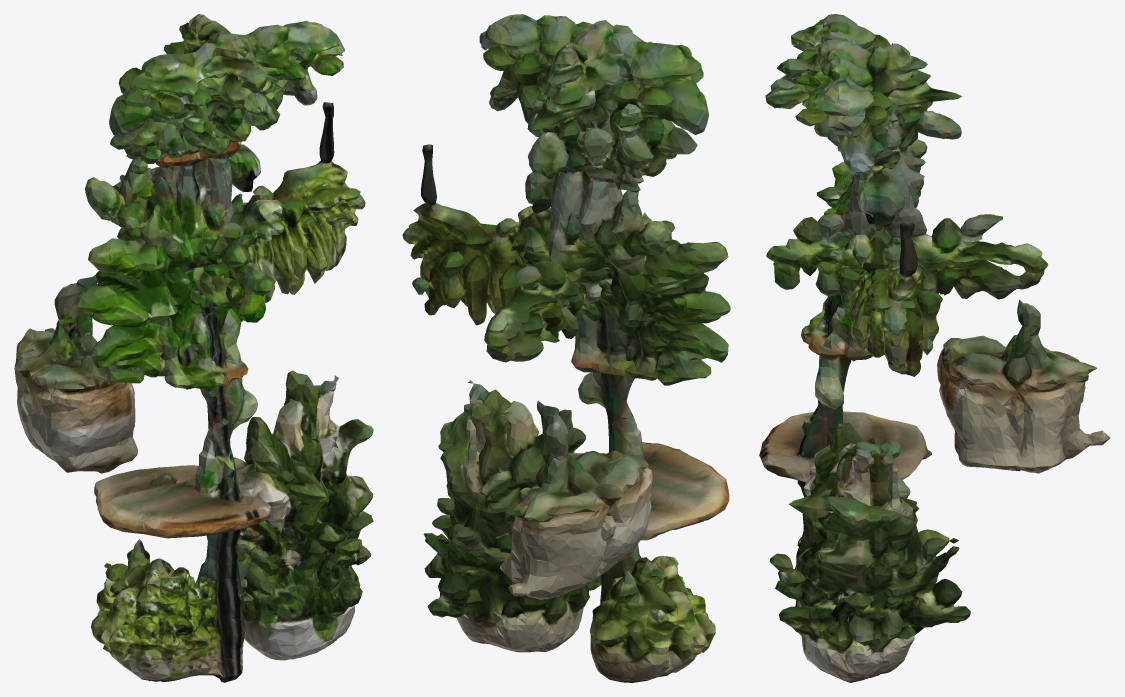
The model's file is plant-stand.glb.
The picture shows the model from 3 angles, left to right: view 1: azimuth 30°, elevation 25°; view 2: azimuth 150°, elevation 25°; view 3: azimuth 270°, elevation 25°; orthographic projection. The views are drawn at different scales.
Parts seen in each view (by area): view 1: geometry_0; view 2: geometry_0; view 3: geometry_0.
Boxes of the visible parts, x1,y1,x2,y2 form: geometry_0: (14, 14, 373, 682); geometry_0: (402, 14, 730, 682); geometry_0: (759, 14, 1110, 682).
Bounding box in the file's own units: 0.52 × 1.02 × 0.5483.
Materials: 1 (1 with a texture image).
